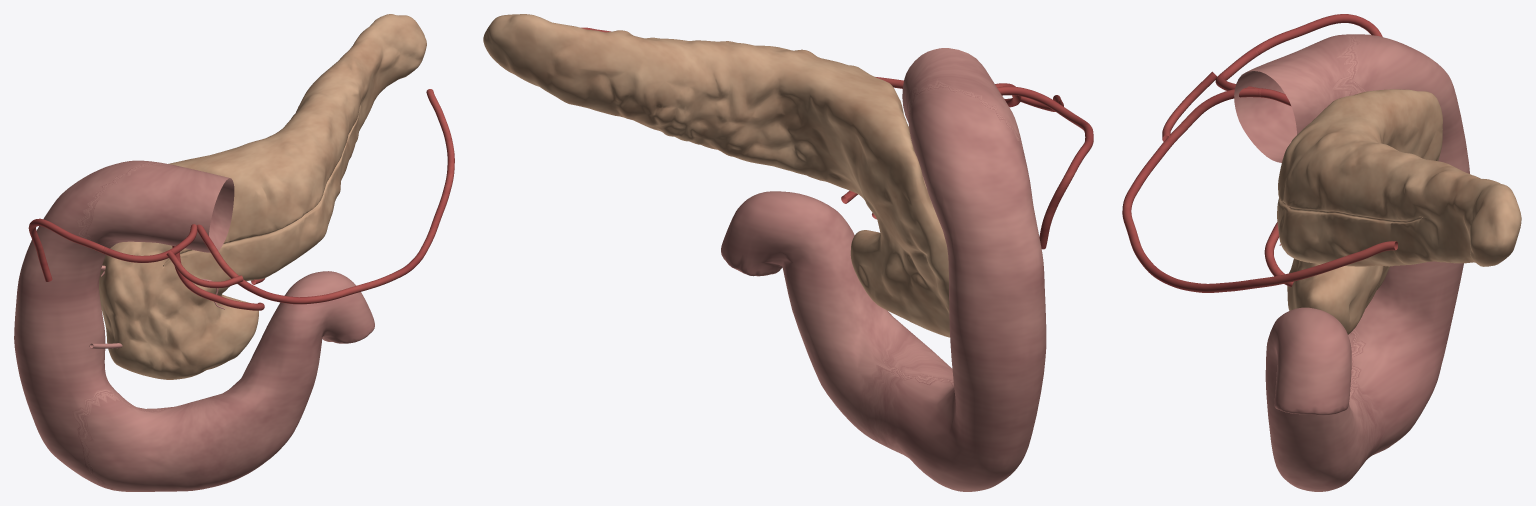
File: pancreas.glb
3 views of the same model, side by side, from view 1: azimuth 30°, elevation 25°; view 2: azimuth 150°, elevation 25°; view 3: azimuth 270°, elevation 25° (orthographic). The views are drawn at different scales.
Visible parts, largest first — view 1: Duodenum.001, Pancreas.001, Anterior inferior pancreaticoduodenal artery.001; view 2: Duodenum.001, Pancreas.001, Anterior inferior pancreaticoduodenal artery.001; view 3: Duodenum.001, Pancreas.001, Anterior inferior pancreaticoduodenal artery.001.
Part boxes in pixels (x1=…): Duodenum.001: x1=14, y1=160, x2=374, y2=491; Pancreas.001: x1=99, y1=14, x2=426, y2=379; Anterior inferior pancreaticoduodenal artery.001: x1=28, y1=89, x2=454, y2=310; Duodenum.001: x1=721, y1=48, x2=1046, y2=491; Pancreas.001: x1=483, y1=14, x2=950, y2=337; Anterior inferior pancreaticoduodenal artery.001: x1=581, y1=27, x2=1093, y2=249; Duodenum.001: x1=1234, y1=34, x2=1469, y2=491; Pancreas.001: x1=1277, y1=89, x2=1521, y2=334; Anterior inferior pancreaticoduodenal artery.001: x1=1122, y1=14, x2=1397, y2=292.
Size of the model in its own units: 0.1407 by 0.1077 by 0.0866.
3 materials, 3 textured.
